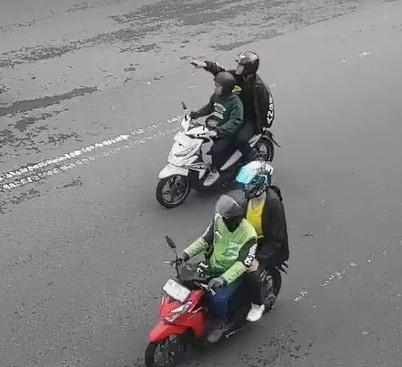Helmet: (236, 160, 272, 197), (215, 190, 246, 231), (236, 51, 259, 76), (214, 72, 235, 93)
Number Plate: (162, 279, 189, 302)
Rearview Mirror: (165, 235, 176, 249)
